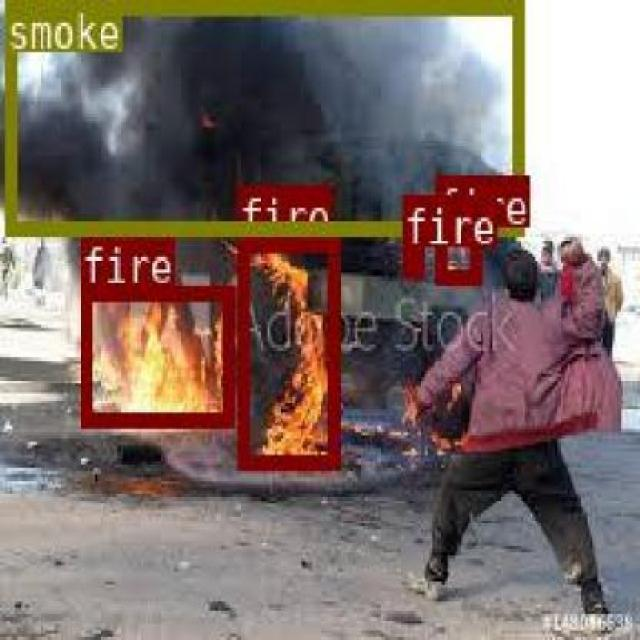Fire: (237, 234, 336, 466), (78, 283, 231, 425)
Smoke: (3, 0, 520, 231)
